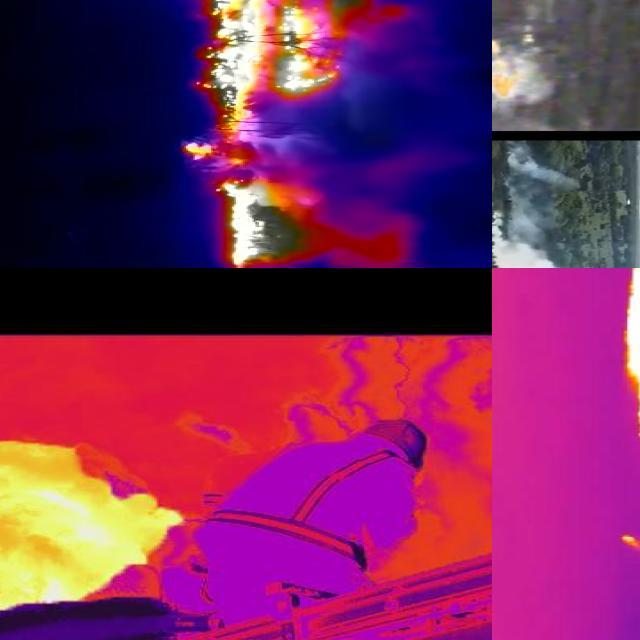fire: (1, 410, 209, 640), (183, 1, 359, 129), (216, 177, 358, 269), (183, 133, 275, 169), (493, 33, 526, 97)
